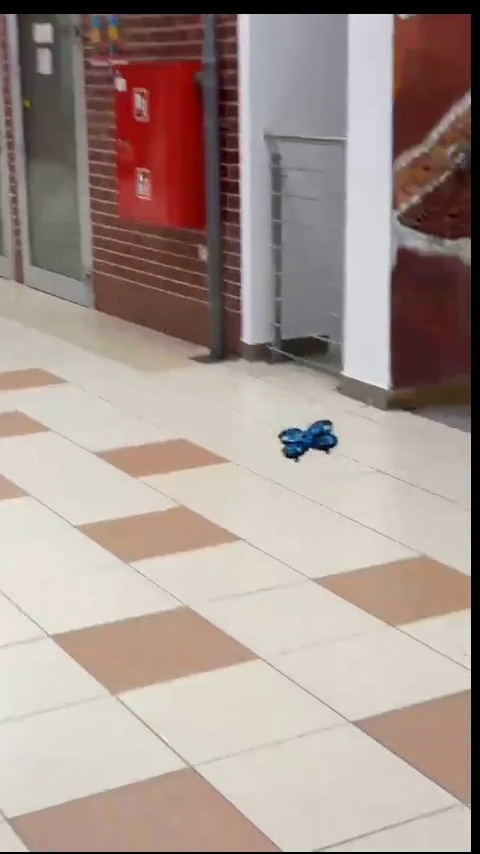drone: (277, 418, 337, 463)
